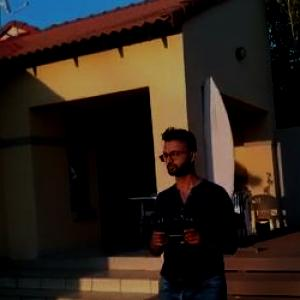follow: (148, 127, 240, 299)
